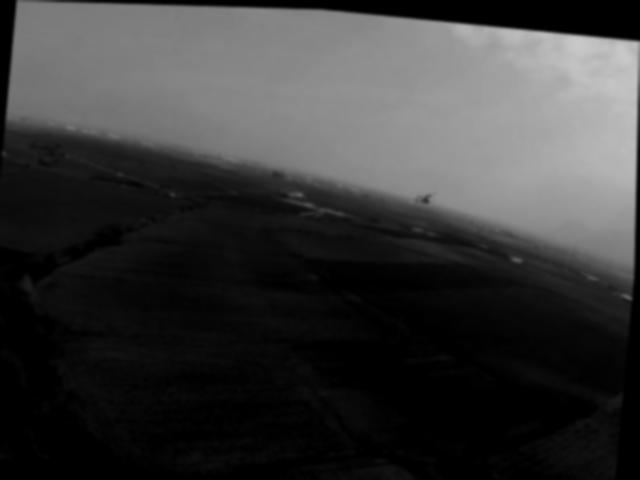hedef: (396, 178, 449, 215), (295, 198, 339, 225)
